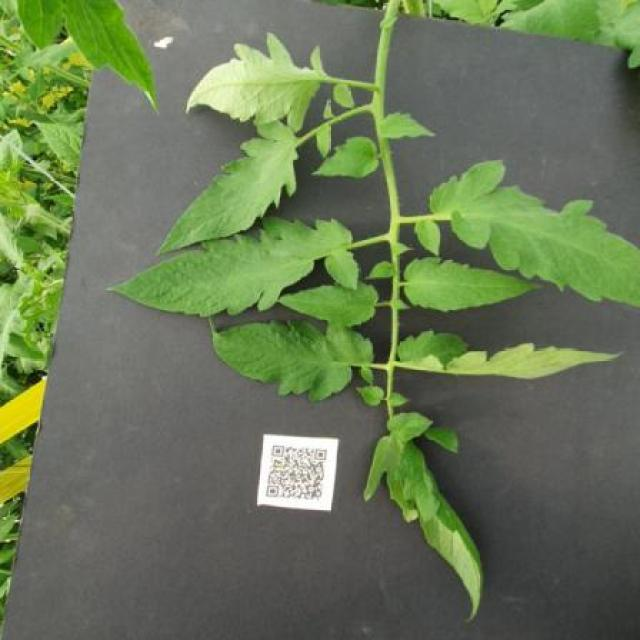Healthy: (428, 158, 639, 308), (362, 411, 487, 622), (106, 216, 360, 317), (154, 121, 299, 255), (210, 317, 376, 402), (397, 329, 624, 380), (404, 256, 544, 314), (275, 282, 381, 327), (312, 136, 382, 178), (379, 110, 436, 141)
